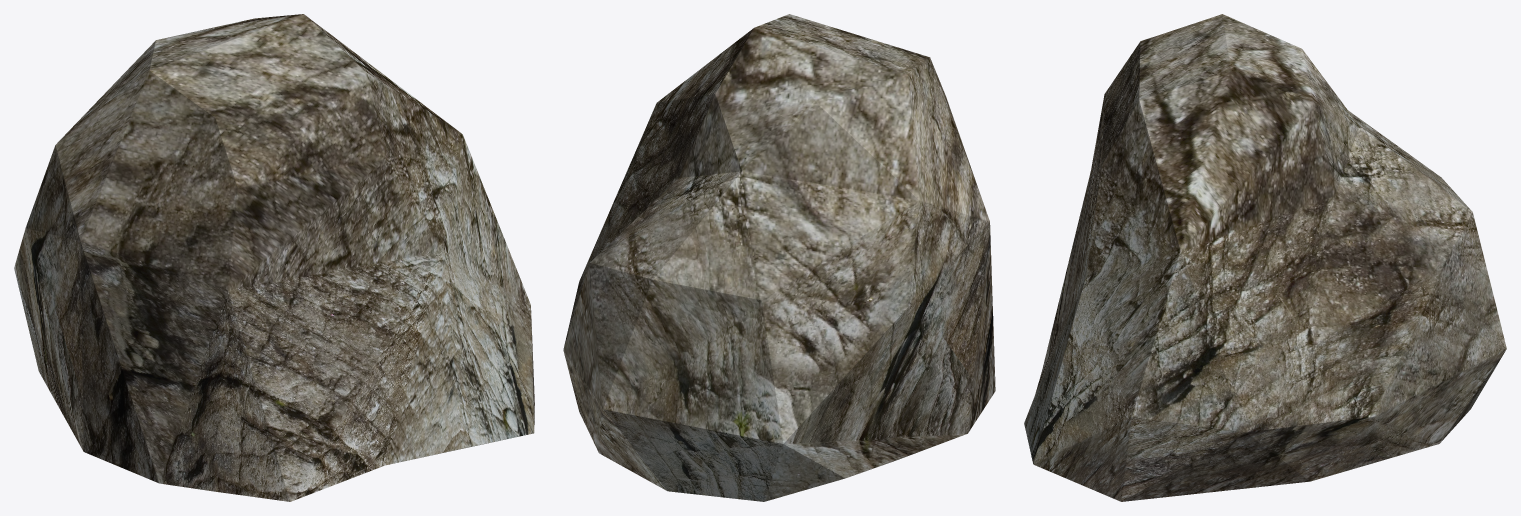
The model's file is Stone.fbx.
3 views of the same model, side by side, from view 1: azimuth 30°, elevation 25°; view 2: azimuth 150°, elevation 25°; view 3: azimuth 270°, elevation 25° (orthographic). The views are drawn at different scales.
Parts seen in each view (by area): view 1: RockMesh; view 2: RockMesh; view 3: RockMesh.
Part boxes in pixels (box(x1,y1,x2,y2)): RockMesh: box(14, 14, 534, 501); RockMesh: box(563, 14, 995, 501); RockMesh: box(1024, 14, 1506, 501).
Size of the model in its own units: 43.32 by 38.68 by 47.7.
1 material, 1 textured.
